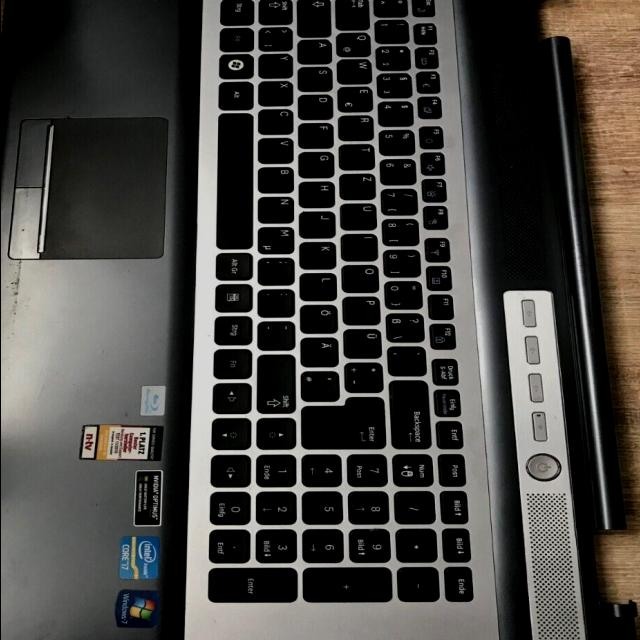0: (386, 279, 426, 307)
1: (376, 19, 411, 43)
2: (379, 44, 413, 70)
3: (379, 71, 414, 97)
4: (380, 99, 416, 125)
5: (381, 127, 417, 153)
6: (382, 157, 418, 183)
7: (382, 187, 420, 213)
8: (383, 216, 421, 244)
9: (385, 247, 423, 275)
a: (299, 38, 333, 63)
accent: (390, 344, 430, 374)
ae: (302, 335, 340, 365)
alt-left: (220, 80, 255, 109)
altgr-right: (217, 251, 255, 279)
b: (258, 165, 296, 193)
c: (260, 107, 295, 133)
caret: (376, 0, 410, 15)
comma: (258, 256, 296, 284)
d: (299, 93, 335, 119)
del: (392, 378, 434, 449)
e: (340, 85, 375, 111)
enter: (303, 394, 389, 448)
f: (299, 121, 335, 147)
g: (300, 150, 336, 176)
h: (301, 180, 337, 207)
hash: (303, 369, 341, 399)
i: (343, 232, 379, 260)
j: (300, 209, 338, 236)
k: (301, 240, 339, 268)
keyboard: (187, 0, 499, 630)
l: (302, 271, 340, 299)
less: (260, 26, 294, 50)
m: (258, 225, 296, 253)
minus: (260, 319, 298, 349)
n: (258, 195, 296, 223)
o: (343, 263, 381, 291)
oe: (302, 302, 340, 332)
p: (344, 294, 382, 323)
plus: (348, 360, 386, 390)
point: (259, 287, 297, 316)
q: (338, 32, 372, 56)
r: (340, 114, 375, 140)
s: (299, 66, 334, 91)
shift-left: (260, 1, 294, 23)
shift-lock: (299, 0, 334, 35)
shift-right: (258, 353, 298, 413)
space: (219, 111, 255, 249)
ss: (388, 311, 428, 341)
strg-left: (222, 0, 256, 23)
strg-right: (216, 314, 254, 344)
t: (340, 142, 376, 168)
tab: (337, 0, 372, 28)
u: (341, 202, 379, 229)
ue: (344, 327, 384, 357)
v: (259, 136, 295, 162)
w: (338, 57, 374, 83)
x: (259, 79, 295, 105)
y: (259, 52, 294, 78)
z: (340, 172, 378, 199)
